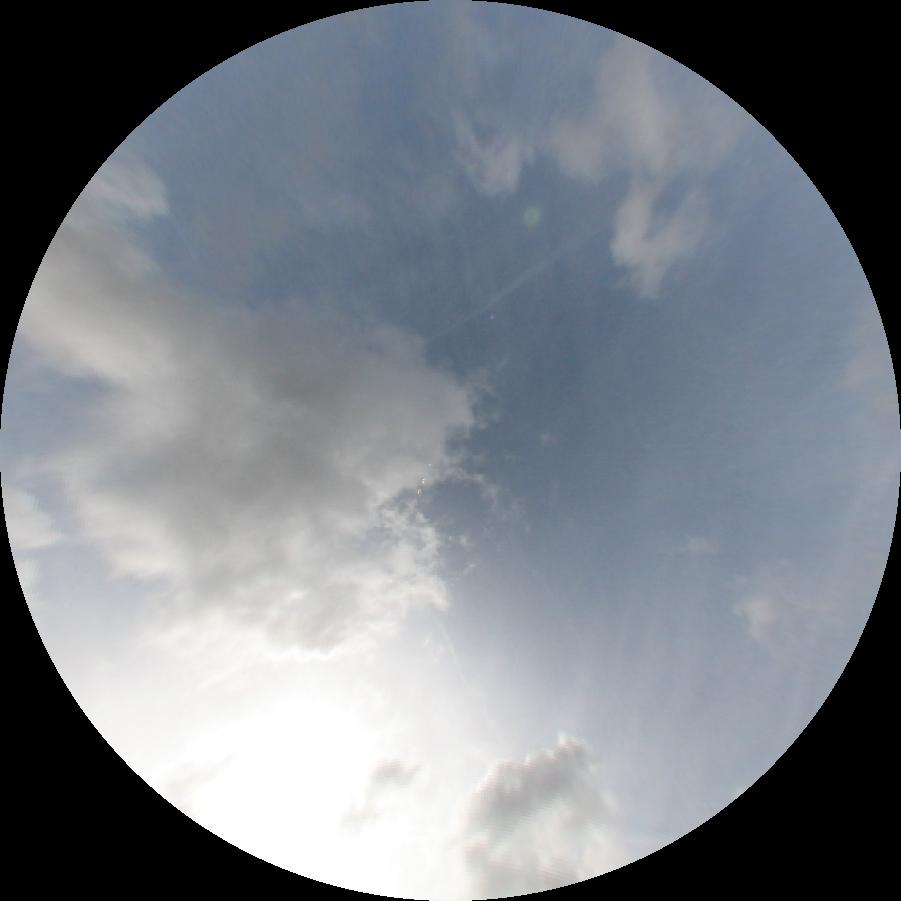contrail veryold: (424, 206, 616, 345)
contrail young: (168, 214, 201, 270)
sun: (144, 684, 461, 900)
